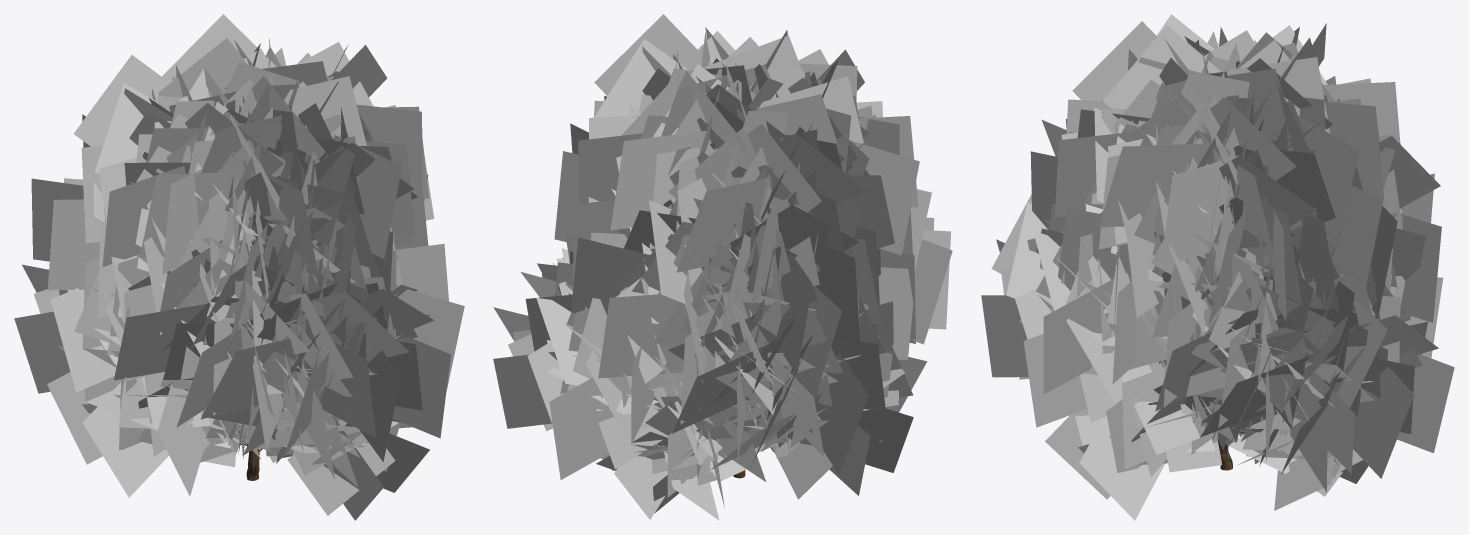
Rendered from tree3.fbx.
The picture shows the model from 3 angles, left to right: view 1: azimuth 30°, elevation 25°; view 2: azimuth 150°, elevation 25°; view 3: azimuth 270°, elevation 25°; orthographic projection.
Parts seen in each view (by area): view 1: tree3; view 2: tree3; view 3: tree3.
Part boxes in pixels (box(x1,y1,x2,y2)): tree3: box(14, 14, 464, 520); tree3: box(493, 14, 952, 520); tree3: box(981, 14, 1454, 520).
Bounding box in the file's own units: 1.89 × 2.1 × 2.01.
